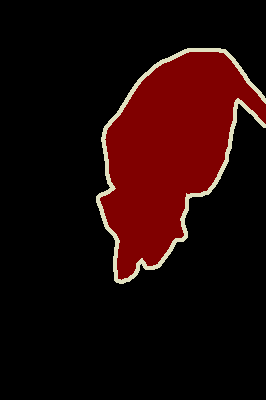cat: (94, 49, 265, 269)
